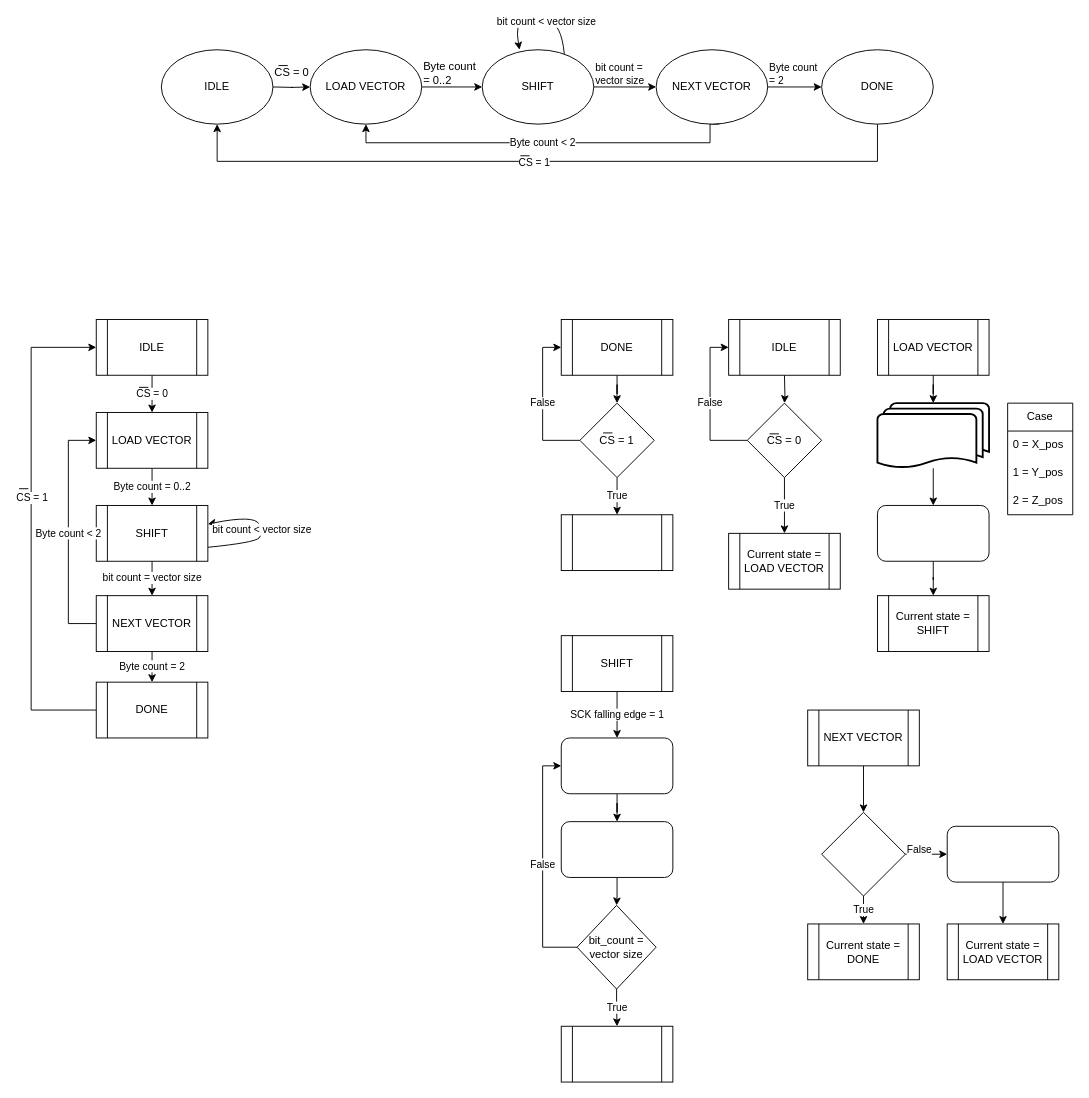
Image size: 1089x1098. Some labels were removed from this diagram. Each missing label, with the centre of its shape:
Byte_count ++: (x=1002, y=853)
Byte_count = 0..2: (x=933, y=435)
Byte_count =2: (x=863, y=853)
Current state = IDLE: (x=616, y=542)
Current state = NEXT VECTOR: (x=616, y=1053)
MISO = Shift_out(MSB): (x=616, y=765)
Shift_out << 1 bit_count ++: (x=616, y=849)
Shift_out = 0..2: (x=933, y=533)
